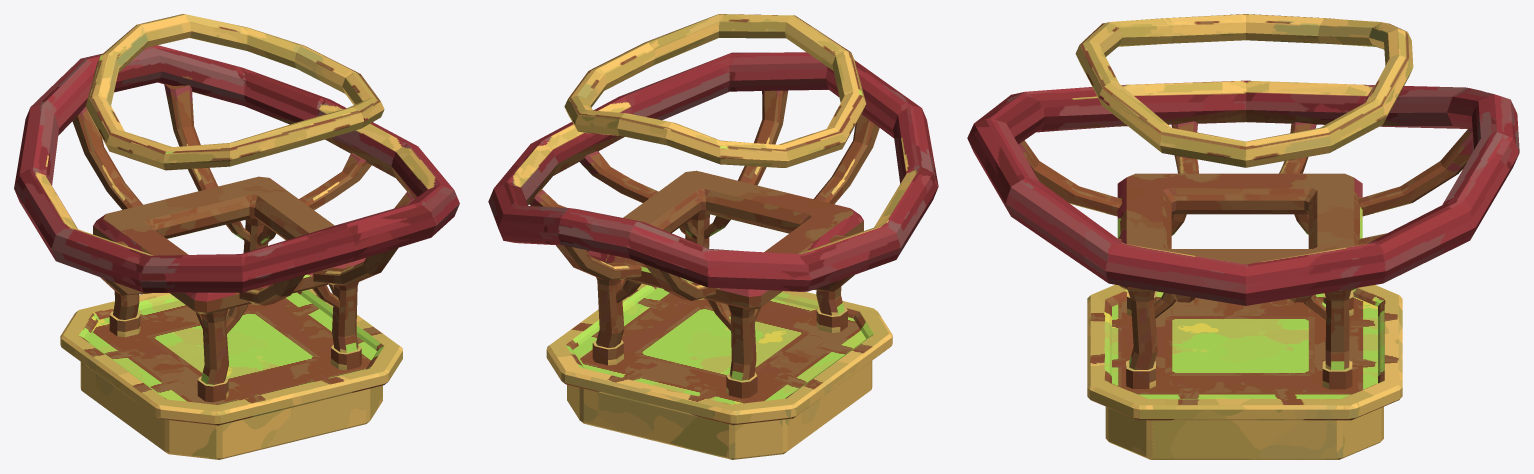
Rendered from fortress pillar_UP.fbx.
3 views of the same model, side by side, from view 1: azimuth 30°, elevation 25°; view 2: azimuth 150°, elevation 25°; view 3: azimuth 270°, elevation 25° (orthographic). The views are drawn at different scales.
Parts seen in each view (by area): view 1: fortress pillar_up_uv; view 2: fortress pillar_up_uv; view 3: fortress pillar_up_uv.
Part boxes in pixels (<box>): fortress pillar_up_uv: <box>14,14,459,459</box>; fortress pillar_up_uv: <box>488,14,938,459</box>; fortress pillar_up_uv: <box>967,14,1519,459</box>.
Bounding box in the file's own units: 924 × 777 × 1074.
Materials: 1 (1 with a texture image).
